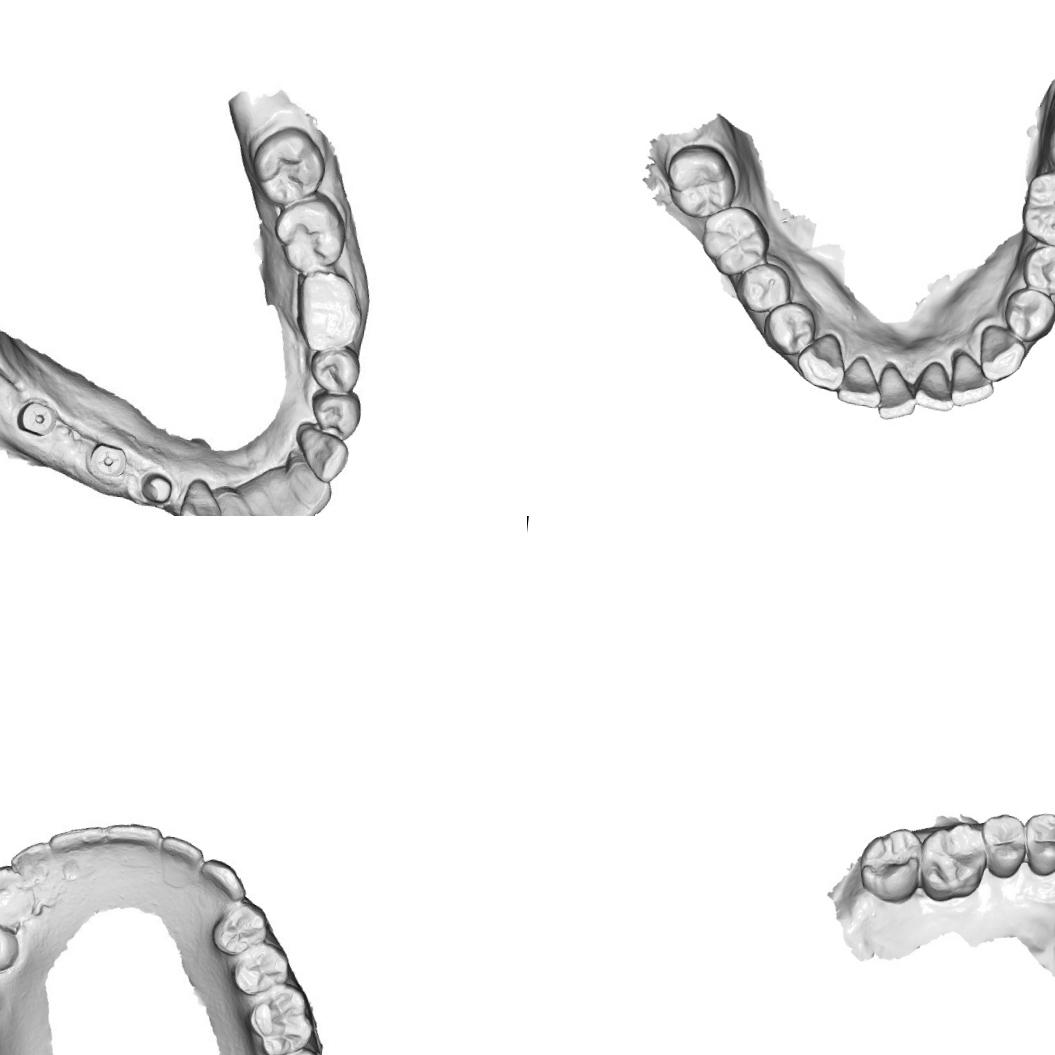abutment: (138, 468, 178, 506)
canine: (290, 422, 354, 484), (974, 322, 1030, 386), (794, 328, 848, 394), (194, 854, 252, 906), (0, 858, 38, 925), (177, 475, 226, 516)
implant_plus: (11, 394, 63, 440), (80, 442, 128, 483)
incisor: (280, 454, 345, 516), (48, 808, 112, 868), (944, 348, 998, 412), (873, 359, 923, 423), (834, 350, 886, 410), (107, 822, 167, 873), (913, 357, 958, 414), (158, 831, 204, 878), (11, 840, 56, 887), (265, 477, 318, 516), (239, 482, 287, 516), (210, 491, 262, 516)
molar: (248, 123, 330, 208), (662, 138, 744, 223), (916, 817, 992, 908), (288, 270, 366, 353), (272, 194, 352, 274), (696, 201, 773, 281), (855, 823, 926, 906), (242, 983, 316, 1055), (1014, 167, 1055, 253)
premolar: (227, 938, 293, 1002), (209, 896, 275, 960), (975, 810, 1030, 882), (760, 297, 821, 359), (734, 258, 796, 318), (1001, 287, 1055, 345), (308, 344, 364, 398), (308, 388, 362, 440), (1019, 809, 1055, 879), (1020, 241, 1055, 298), (0, 910, 20, 978)
